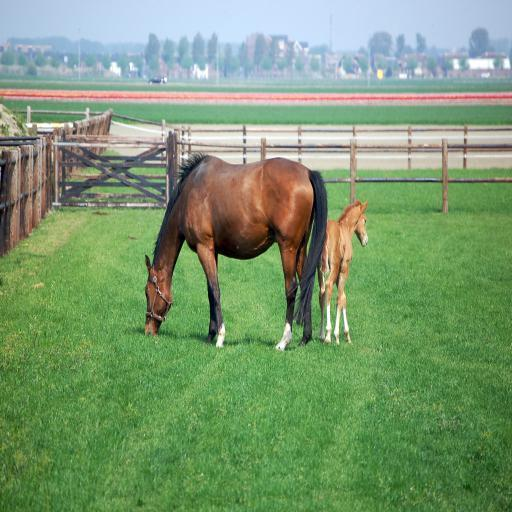horse: (144, 150, 328, 349), (316, 199, 368, 349)
